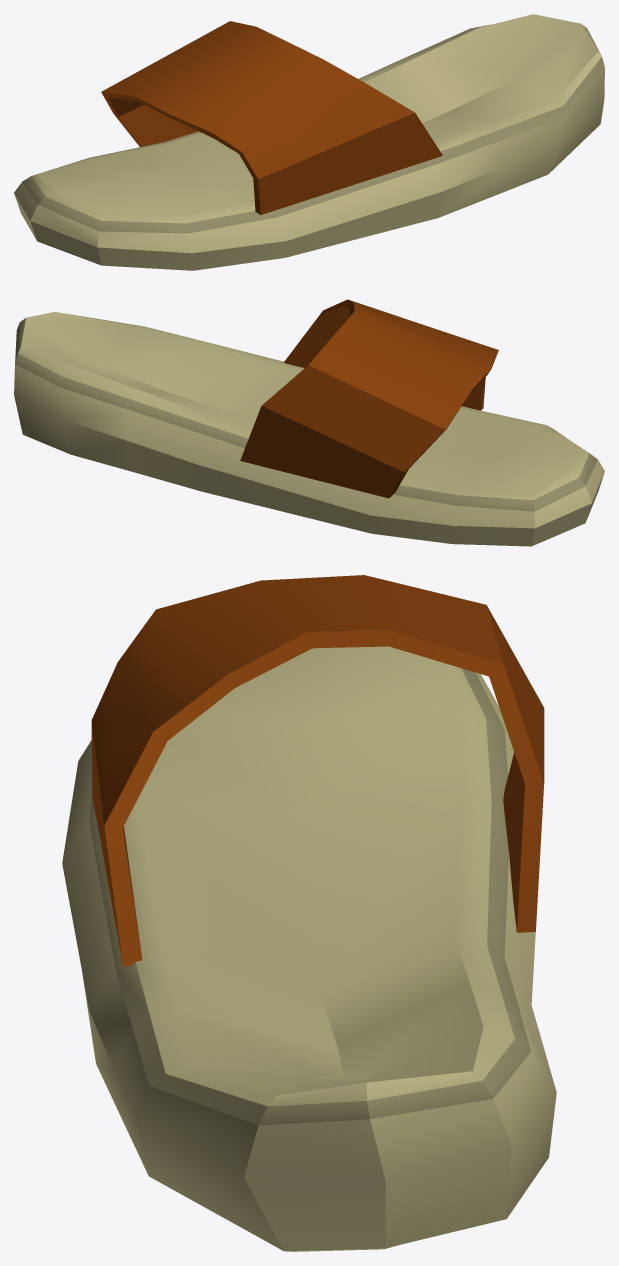
3 renders of one model, top to bottom at view 1: azimuth 30°, elevation 25°; view 2: azimuth 150°, elevation 25°; view 3: azimuth 270°, elevation 25°, orthographic. The views are drawn at different scales.
Visible parts, largest first — view 1: Slipper; view 2: Slipper; view 3: Slipper.
Boxes of the visible parts, x1,y1,x2,y2 form: Slipper: (14,14,604,270); Slipper: (14,299,604,546); Slipper: (62,575,556,1251).
Size of what is drawn, in the model's own units: 1.38 by 0.403 by 0.52.
